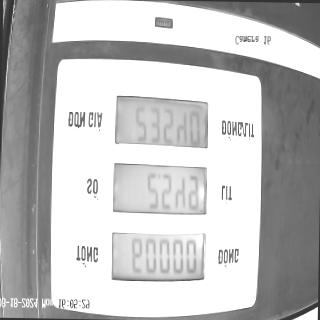screen: (109, 89, 210, 288)
